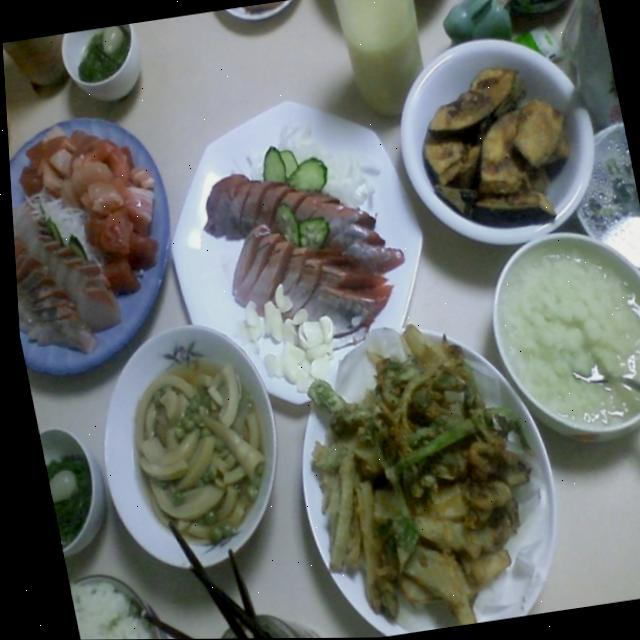米饭主食: (59, 565, 153, 640)
